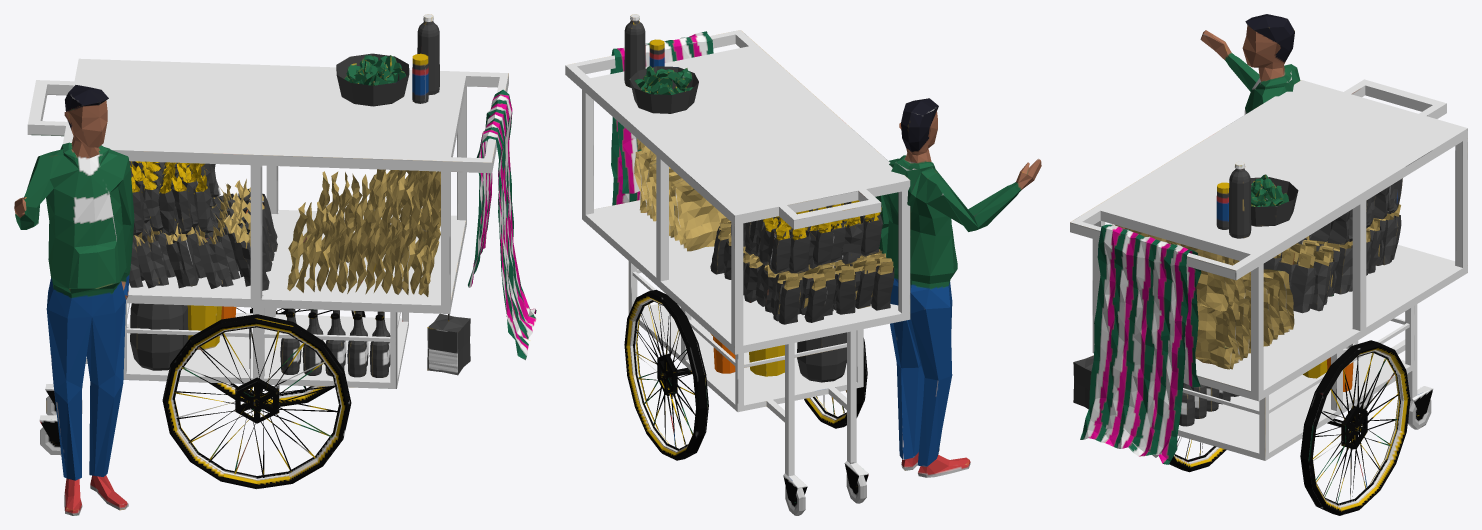
The model's file is PuestoPapas.fbx.
3 views of the same model, side by side, from view 1: azimuth 30°, elevation 25°; view 2: azimuth 150°, elevation 25°; view 3: azimuth 270°, elevation 25° (orthographic). The views are drawn at different scales.
Parts seen in each view (by area): view 1: Papas; view 2: Papas; view 3: Papas.
Boxes of the visible parts, x1,y1,x2,y2 form: Papas: (14,14,536,515); Papas: (565,14,1041,515); Papas: (1070,14,1467,515).
Bounding box in the file's own units: 228 × 178 × 164.
